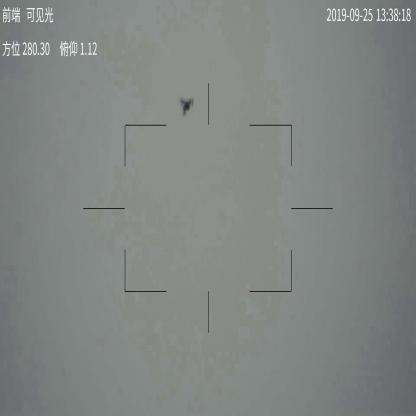uav: (178, 94, 194, 118)
